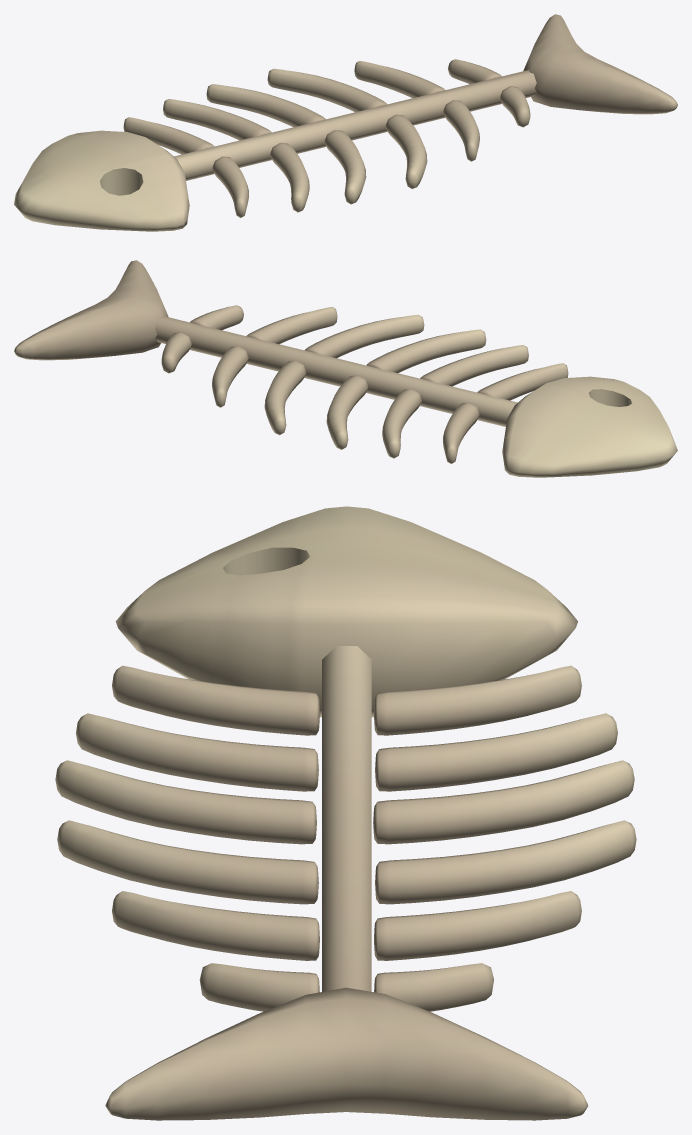
File: toy_1.fbx
3 views of the same model, one above another, from view 1: azimuth 30°, elevation 25°; view 2: azimuth 150°, elevation 25°; view 3: azimuth 270°, elevation 25° (orthographic). The views are drawn at different scales.
Parts seen in each view (by area): view 1: toy_1; view 2: toy_1; view 3: toy_1.
Part boxes in pixels (x1,y1,x2,y2): toy_1: (14,14,677,231); toy_1: (14,260,677,477); toy_1: (55,506,636,1120).
Size of the model in its own units: 72.86 by 7.07 by 30.51.
